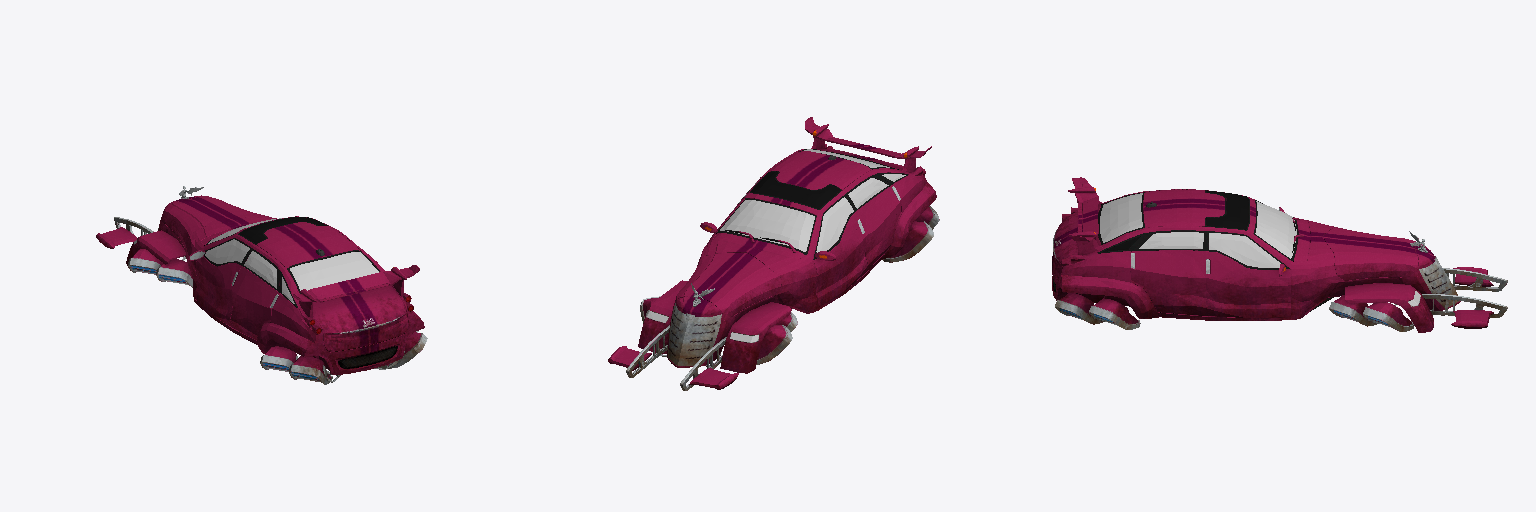
3 renders of one model, left to right at view 1: azimuth 30°, elevation 25°; view 2: azimuth 150°, elevation 25°; view 3: azimuth 270°, elevation 25°, orthographic.
Visible parts, largest first — view 1: Object_1, Object_2.001, Object_4, Object_3; view 2: Object_1, Object_2.001, Object_4, Object_3; view 3: Object_1, Object_2.001, Object_4, Object_3.
Boxes of the visible parts, x1=… form: Object_1: x1=96, y1=186, x2=424, y2=382; Object_2.001: x1=114, y1=195, x2=427, y2=384; Object_4: x1=134, y1=218, x2=378, y2=303; Object_3: x1=126, y1=215, x2=419, y2=351; Object_1: x1=608, y1=117, x2=927, y2=390; Object_2.001: x1=608, y1=121, x2=939, y2=389; Object_4: x1=646, y1=149, x2=905, y2=342; Object_3: x1=632, y1=117, x2=908, y2=378; Object_1: x1=1052, y1=177, x2=1507, y2=332; Object_2.001: x1=1053, y1=189, x2=1493, y2=329; Object_4: x1=1100, y1=193, x2=1420, y2=305; Object_3: x1=1057, y1=183, x2=1500, y2=331.
Size of the model in its own units: 11.54 by 7.29 by 28.45.
Materials: 2 (1 with a texture image).